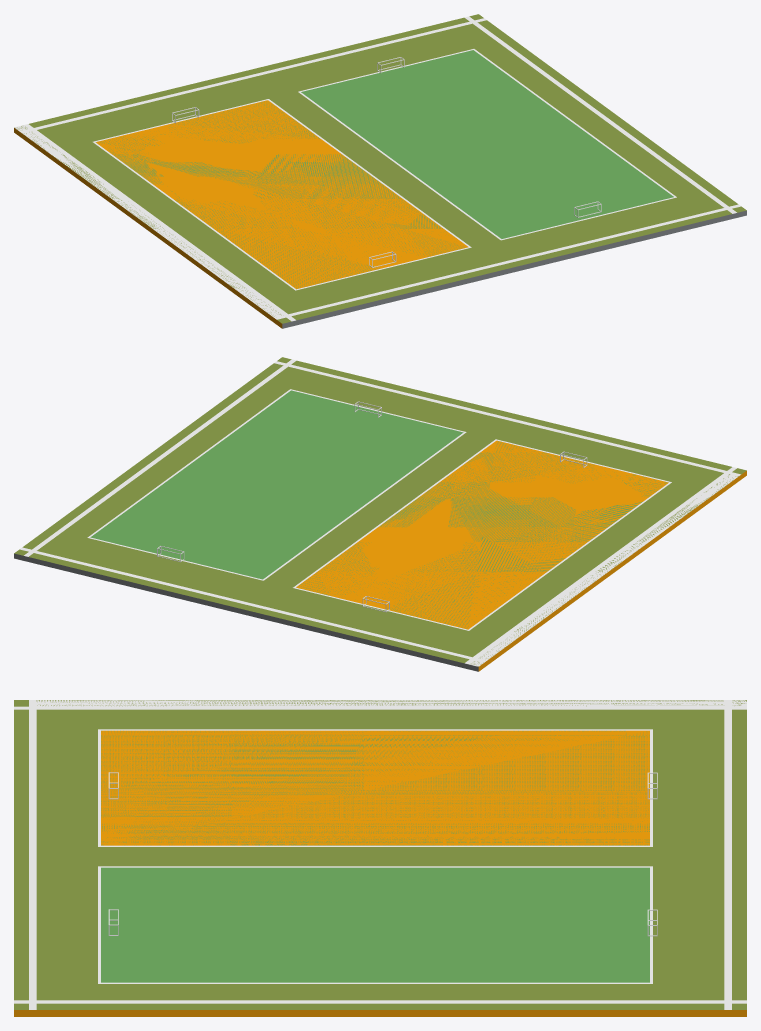
File: 5_soccer.dae
3 views of the same model, one above another, from view 1: azimuth 30°, elevation 25°; view 2: azimuth 150°, elevation 25°; view 3: azimuth 270°, elevation 25° (orthographic). The views are drawn at different scales.
Visible parts, largest first — view 1: group_1 (×12); view 2: group_1 (×12); view 3: group_1 (×11).
Part boxes in pixels (x1,y1,x2,y2): group_1 (×12): (14,16,746,328); group_1 (×12): (14,359,746,671); group_1 (×11): (14,700,746,1016).
Bounding box in the file's own units: 50 × 50 × 1.35.
